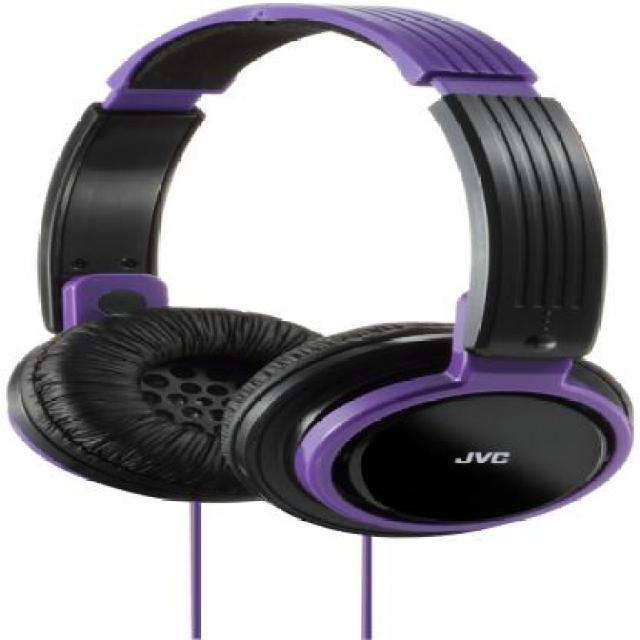earphone: (6, 8, 632, 535)
